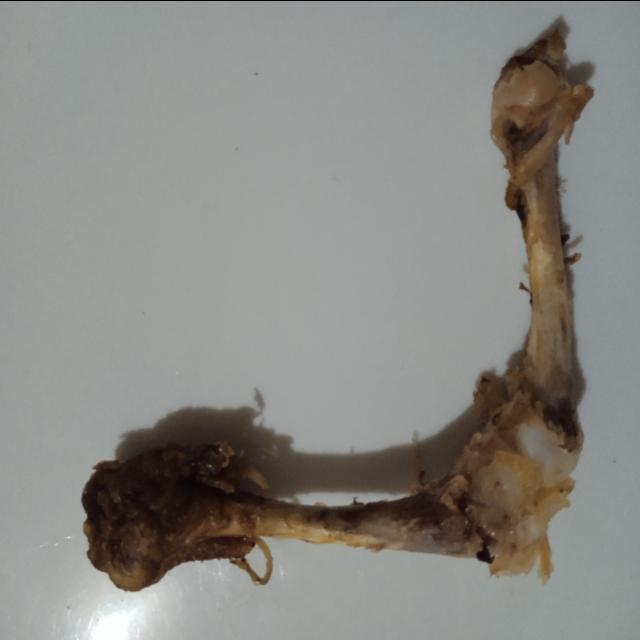bone: (70, 0, 610, 632)
